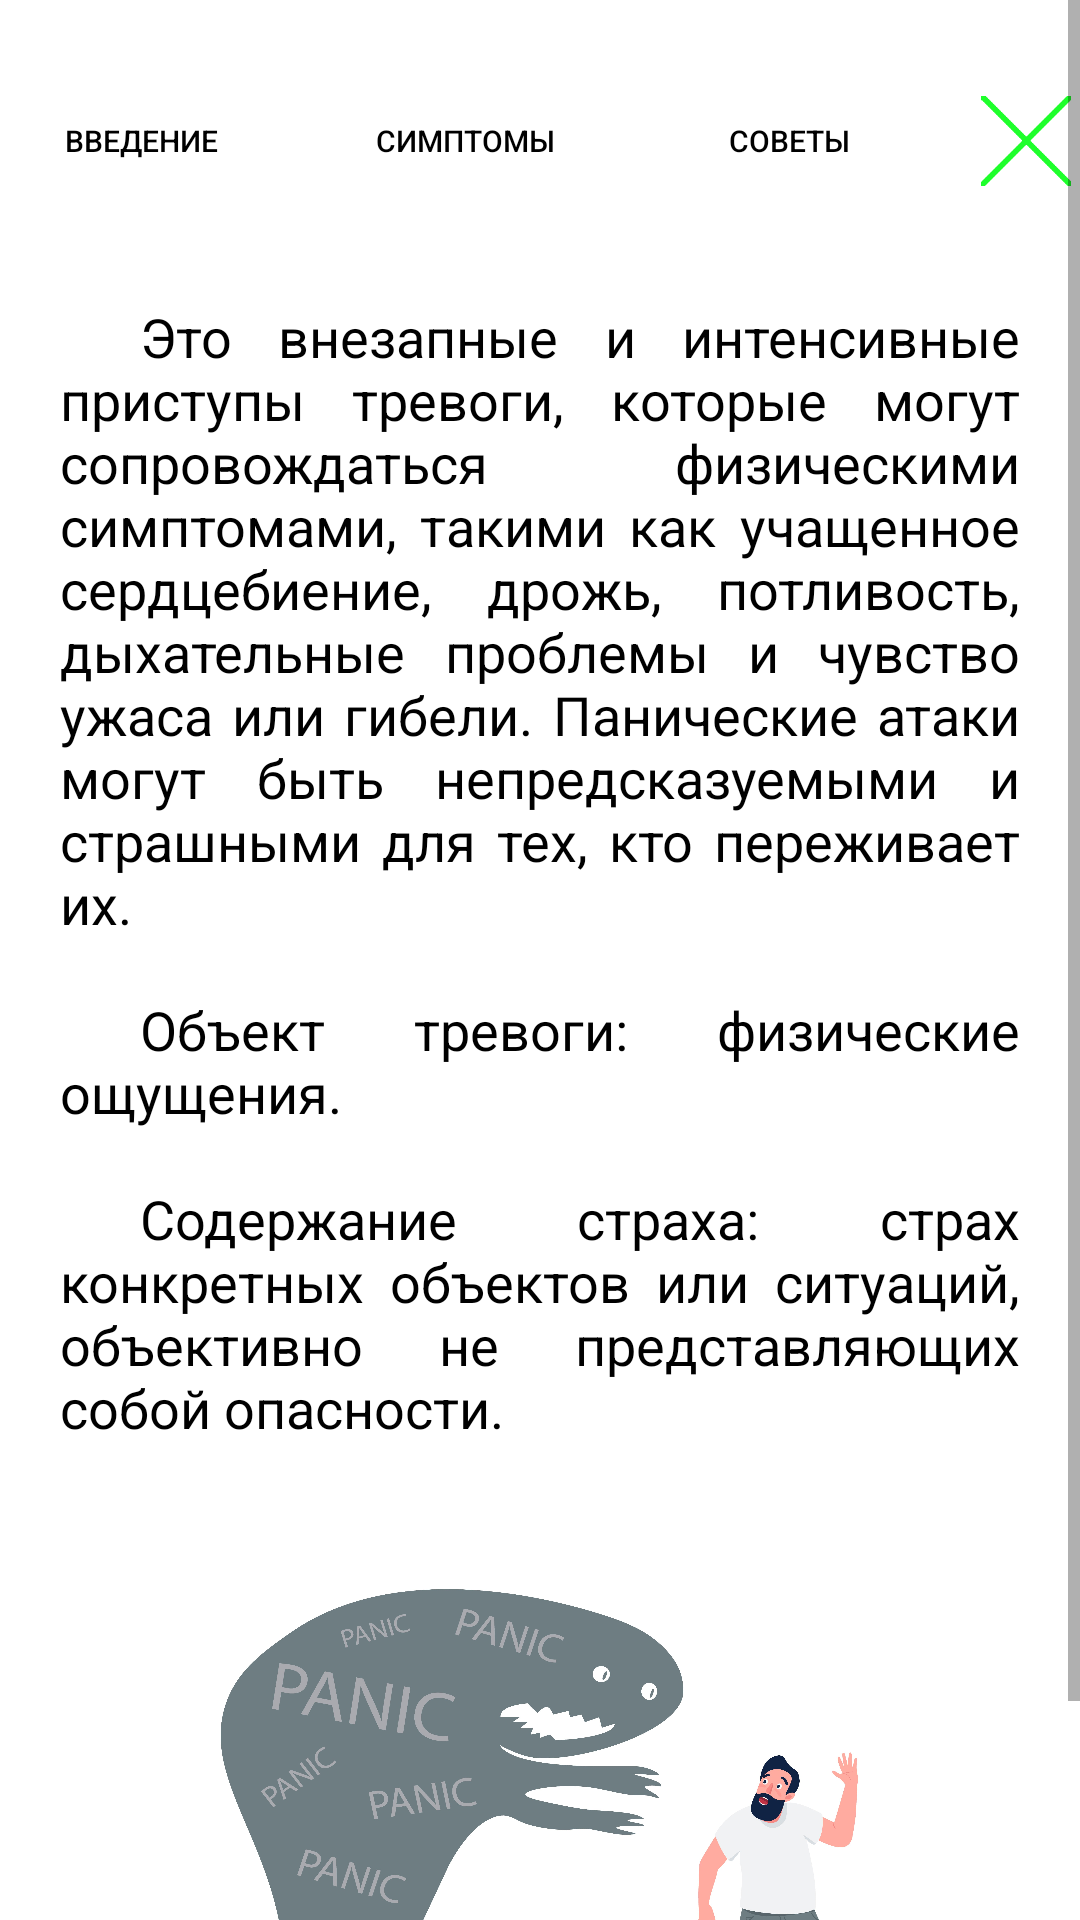

Where to tap for icons on this 1080 × 1920 app screen, as (x,y):
close: (1026,141)
